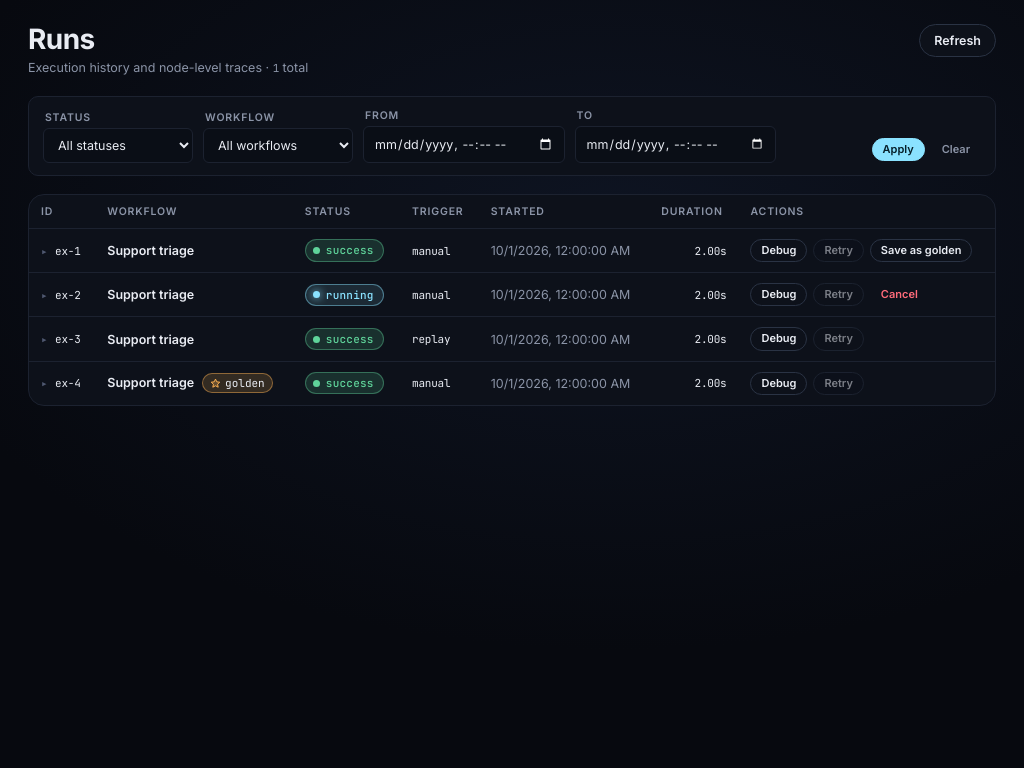
Test: Save as golden run on the Runs page › is offered to builders on finished runs only, and saves with a name
The width and height of the screenshot is (1024, 768).
Click the button "Save as golden" at (921, 251), box x1=870 y1=239 x2=972 y2=262
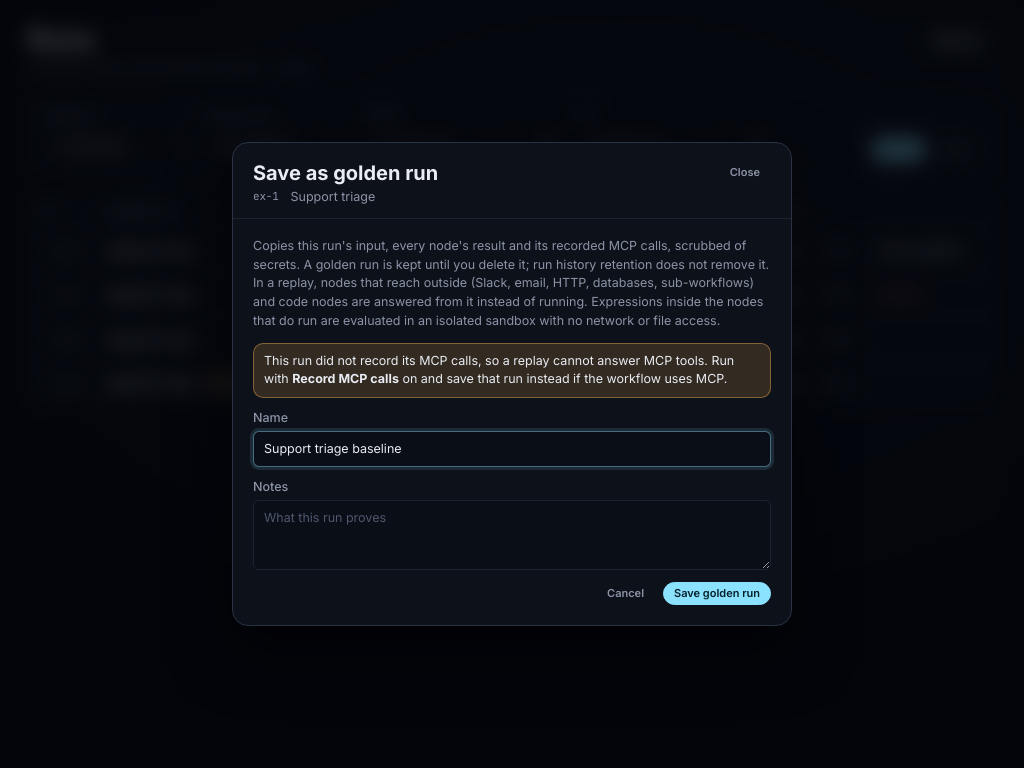
Expected: the message shows "did not record its MCP calls", x1=264 y1=352 x2=734 y2=386
Expected: the dialog "Save as golden run" shows "code nodes are answered from it", x1=253 y1=238 x2=769 y2=328
Expected: the dialog "Save as golden run" shows "expressions inside the nodes that do run are evaluated in an isolated sandbox", x1=253 y1=238 x2=769 y2=328
Replace the text in the field labelled "Name" with "Refund baseline" at (512, 449), box x1=253 y1=431 x2=771 y2=466
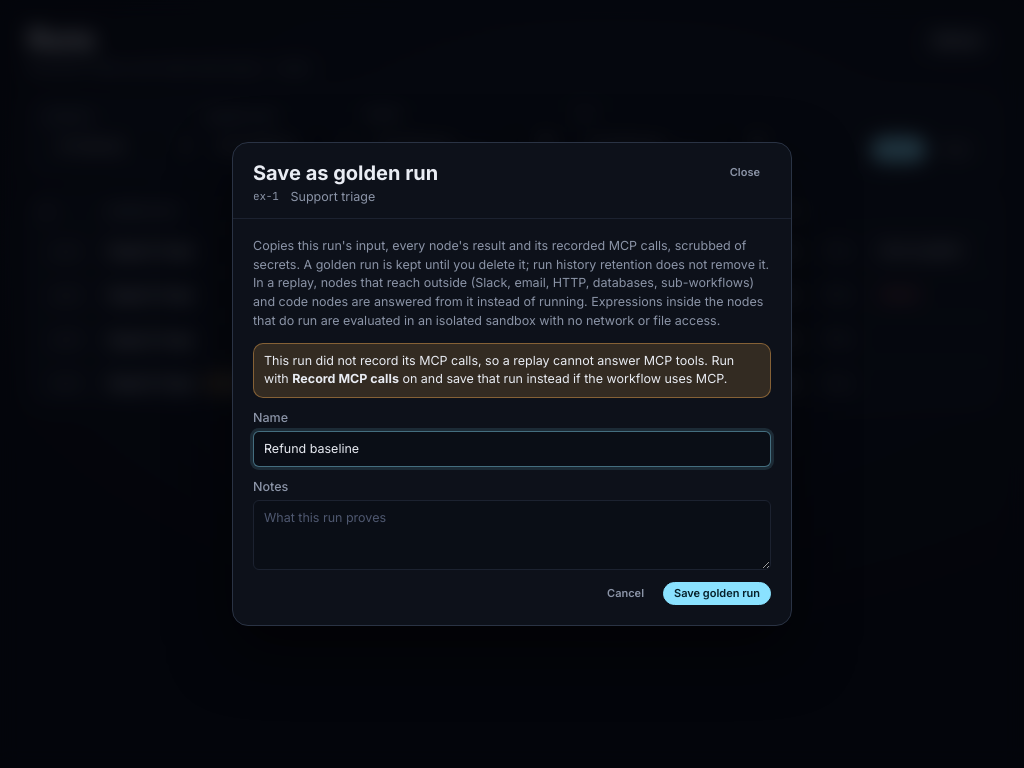
Click the button "Save golden run" at (717, 594), box x1=663 y1=582 x2=771 y2=605
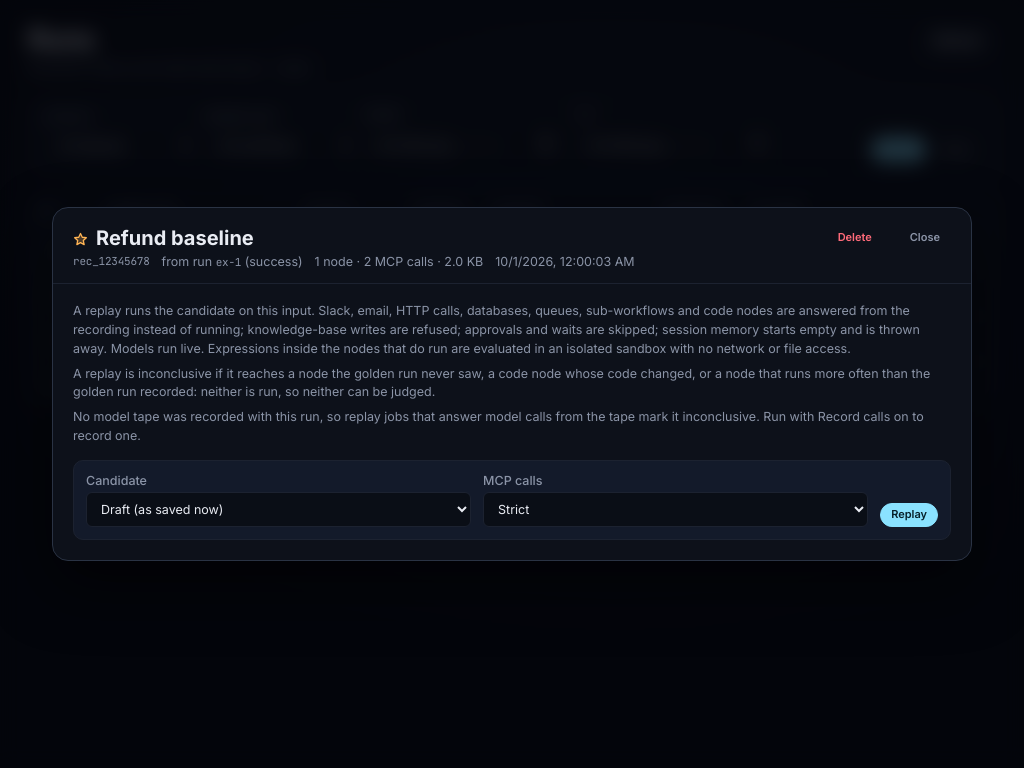
Expected: the dialog "Refund baseline" is shown, x1=52 y1=207 x2=972 y2=561
